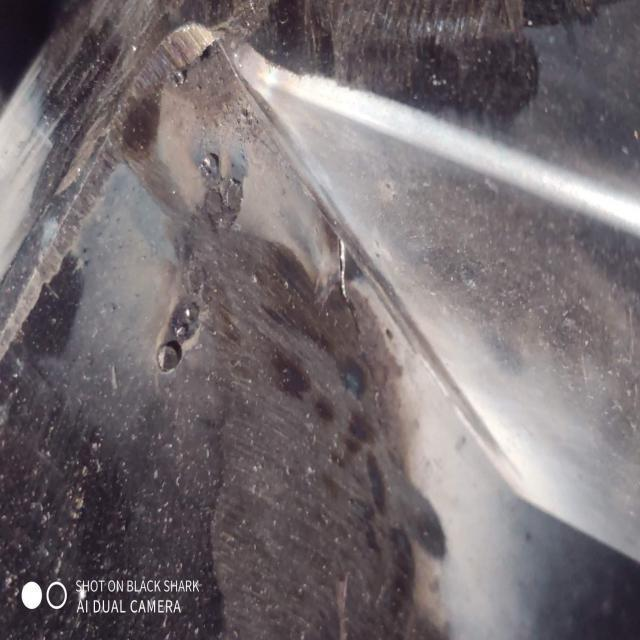Crack: (330, 228, 390, 430)
